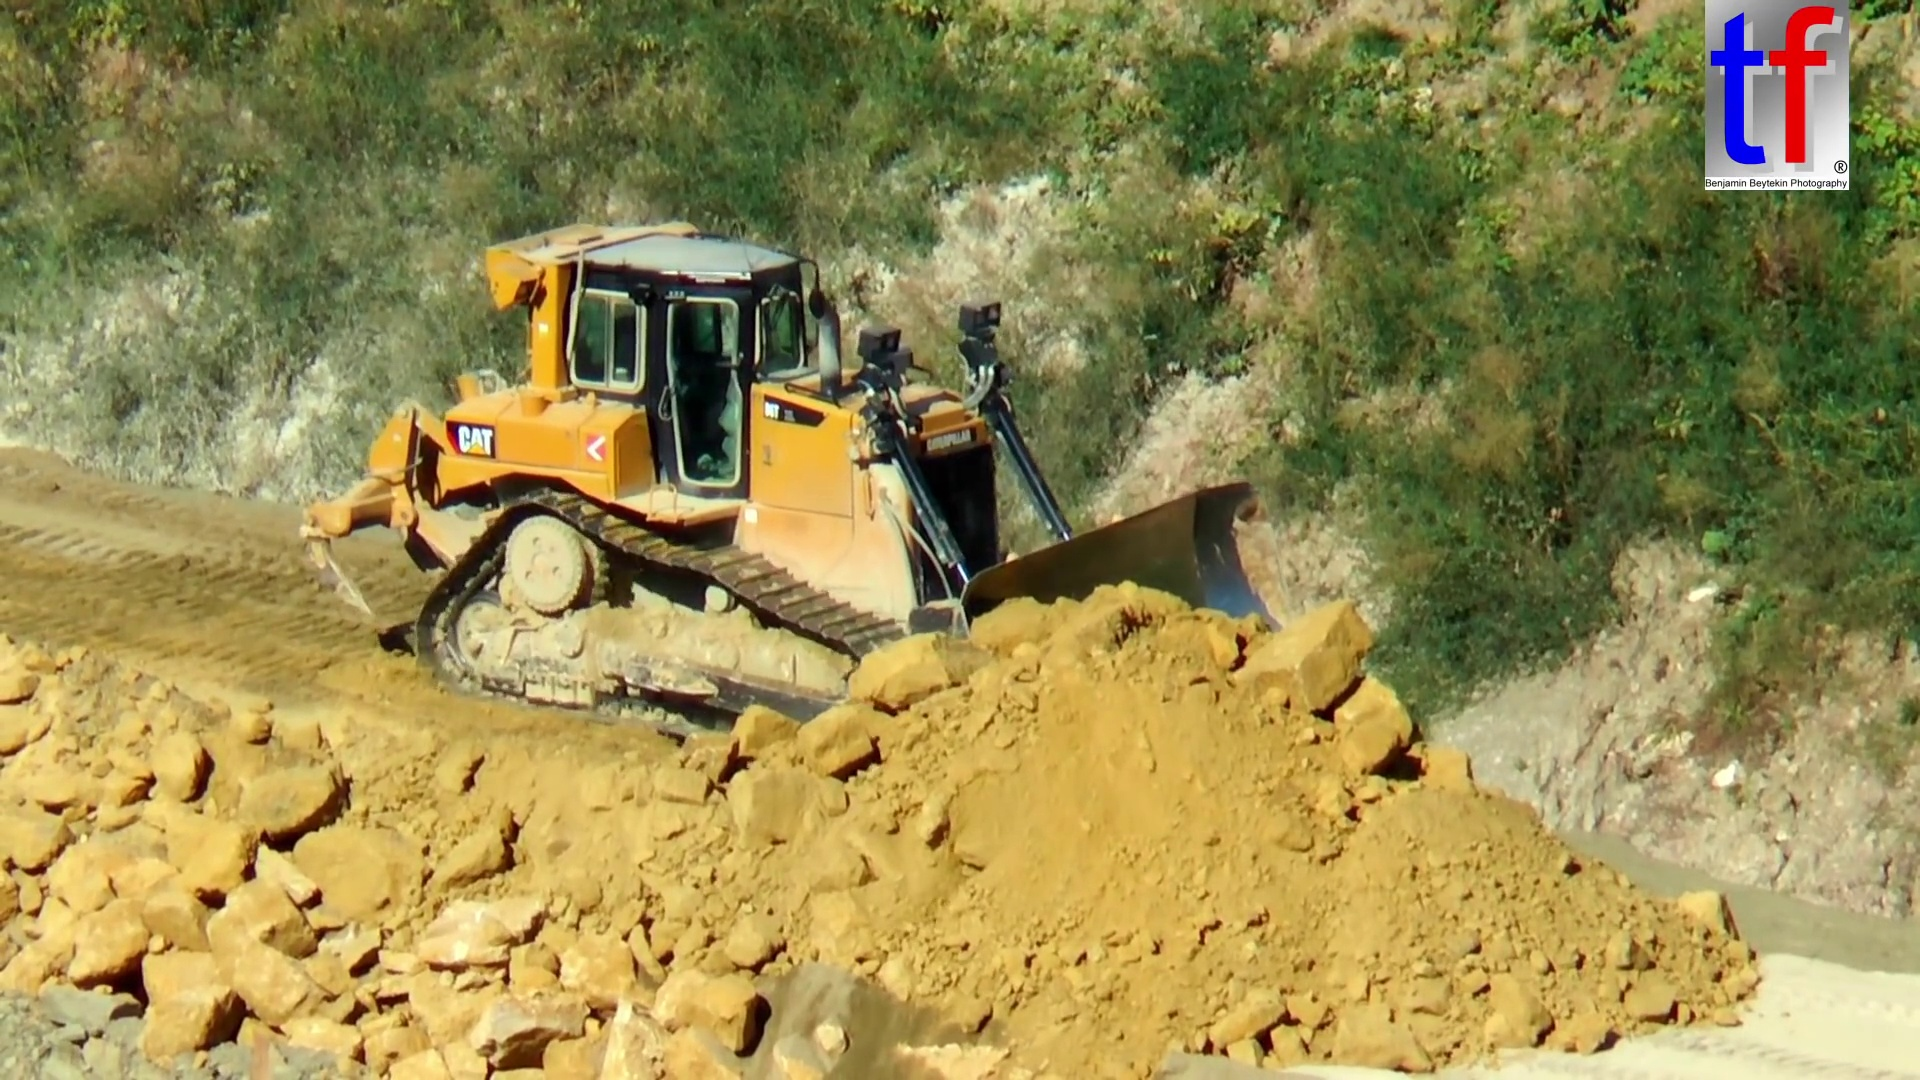bulldozer: (302, 223, 1298, 764)
